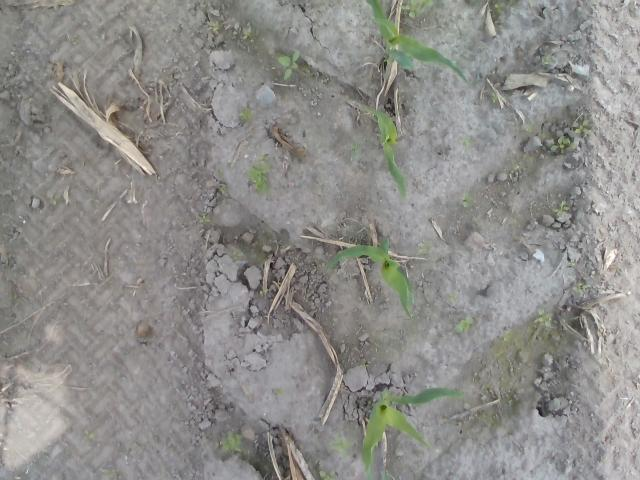Maize: (361, 386, 468, 480), (366, 1, 472, 88), (324, 237, 417, 321), (358, 103, 407, 203)
Weeds: (245, 154, 273, 192), (278, 52, 302, 80), (330, 436, 354, 462), (218, 432, 242, 458), (546, 136, 574, 154), (402, 3, 432, 18), (572, 118, 592, 138), (454, 316, 472, 334), (536, 308, 554, 326), (552, 202, 571, 218), (316, 470, 346, 480), (569, 284, 590, 298), (218, 169, 228, 194), (98, 468, 118, 480), (462, 192, 476, 209), (205, 20, 220, 34), (416, 242, 431, 256), (240, 107, 253, 121), (84, 430, 96, 442), (352, 142, 359, 160), (242, 28, 252, 40), (230, 251, 243, 260), (542, 54, 552, 65), (490, 92, 500, 102), (523, 123, 534, 132), (50, 196, 59, 206), (493, 4, 507, 10), (199, 215, 208, 224), (8, 295, 19, 302), (275, 389, 285, 396), (464, 138, 472, 146), (569, 260, 576, 269), (451, 291, 456, 300)
